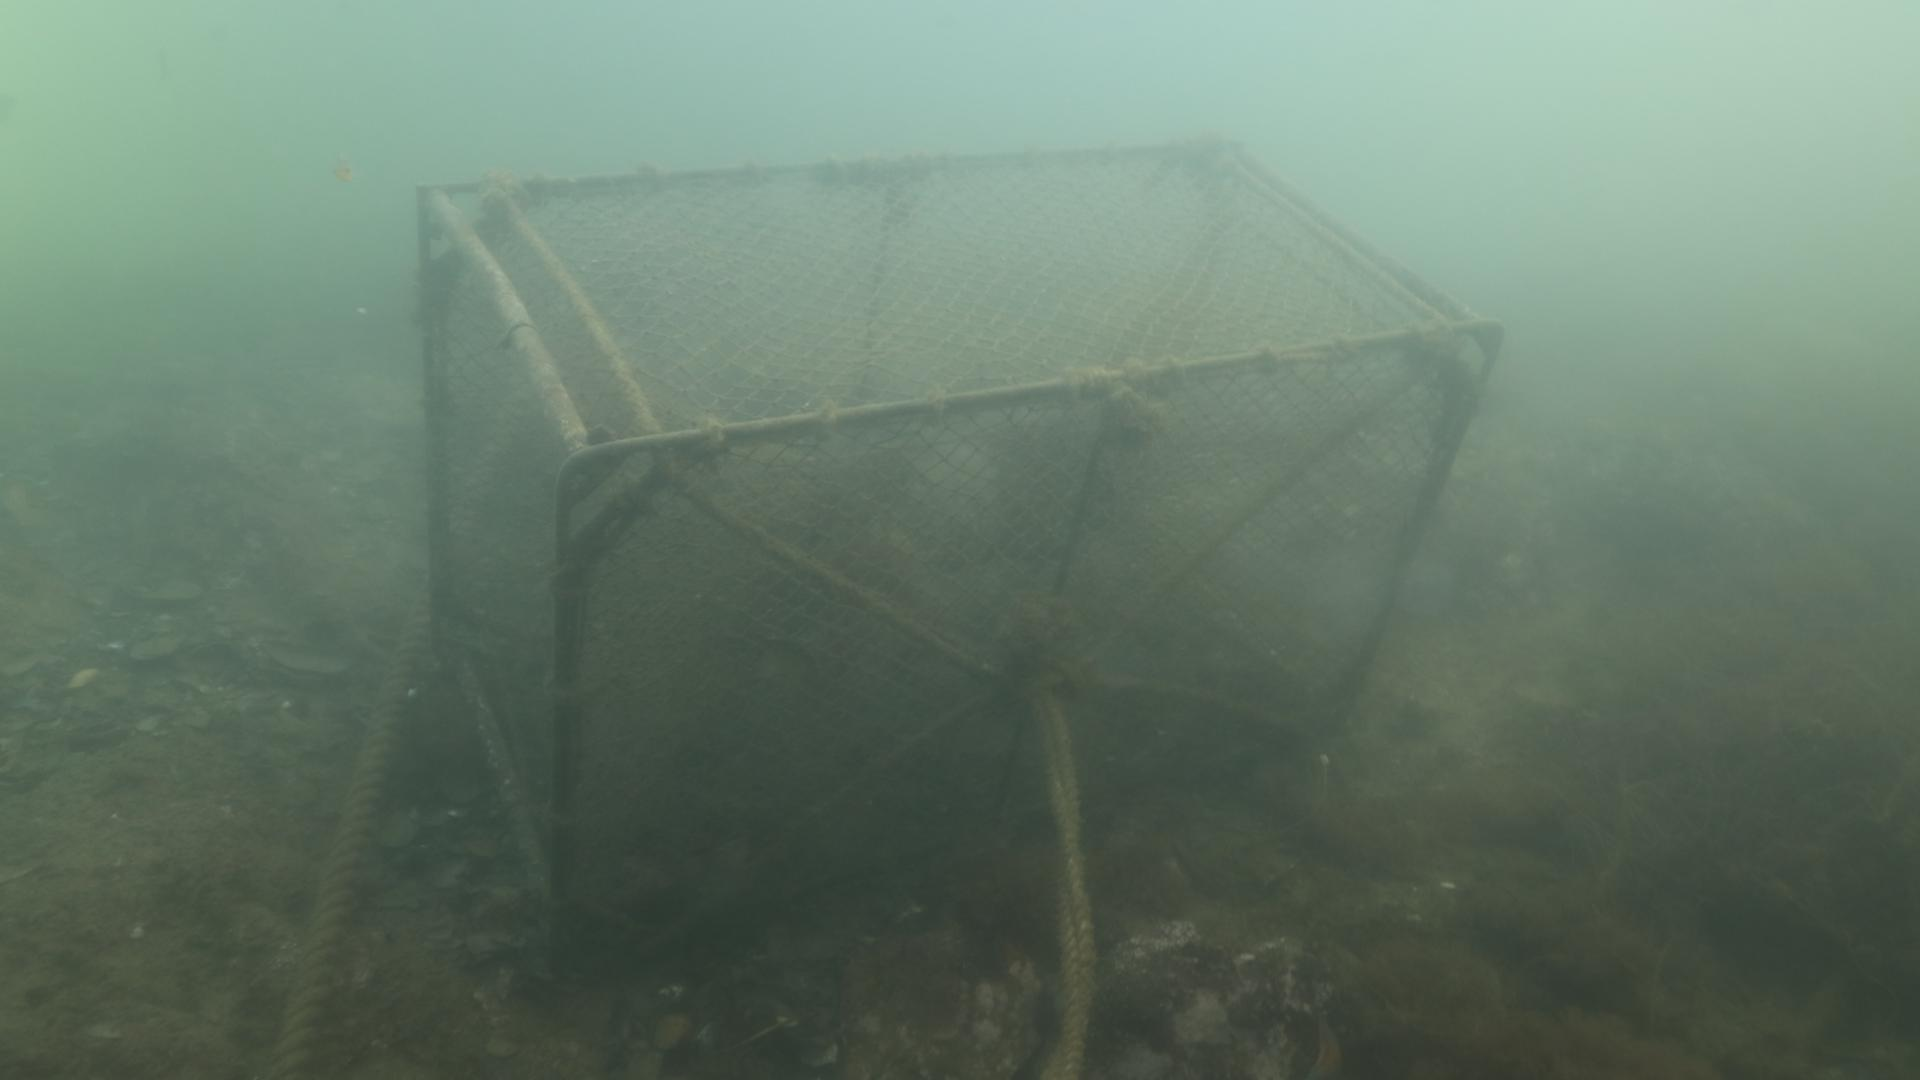bundle of ropes: (1030, 688, 1098, 1080)
rectangular fish trap: (413, 136, 1506, 975)
